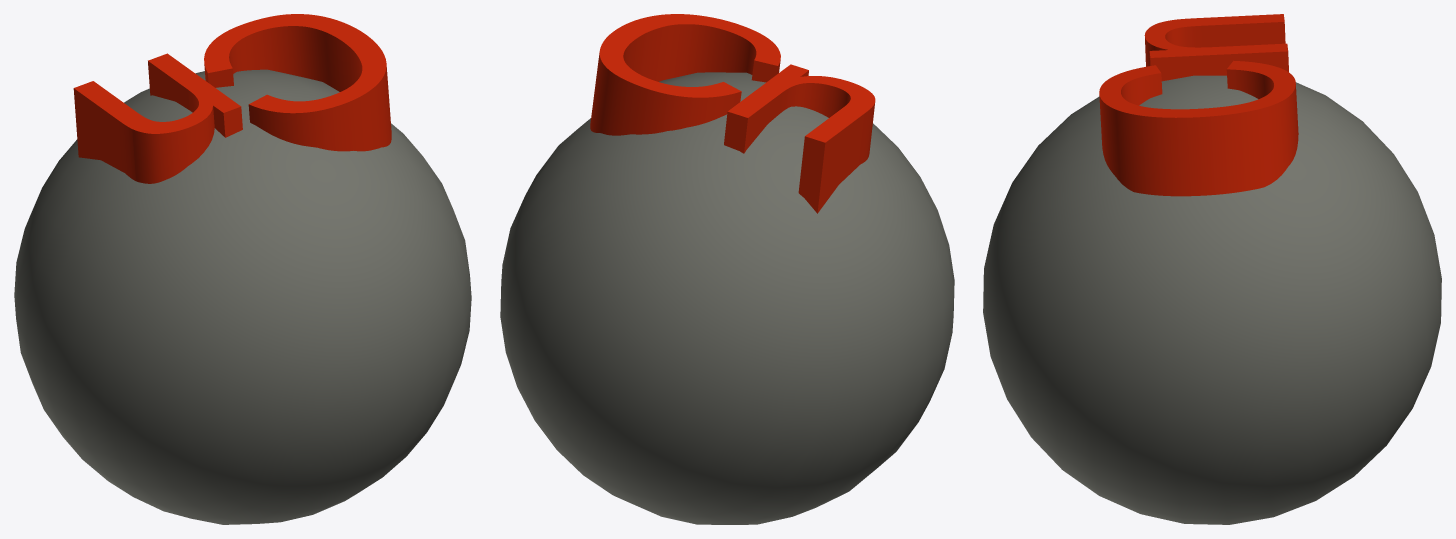
3 renders of one model, left to right at view 1: azimuth 30°, elevation 25°; view 2: azimuth 150°, elevation 25°; view 3: azimuth 270°, elevation 25°, orthographic.
Visible parts, largest first — view 1: Tc001, Object009, Object010; view 2: Tc001, Object009, Object010; view 3: Tc001, Object009, Object010.
Boxes of the visible parts, <box> form: Tc001: <box>14,69,471,524</box>; Object009: <box>204,14,391,151</box>; Object010: <box>73,53,242,183</box>; Tc001: <box>500,72,954,524</box>; Object009: <box>590,14,780,135</box>; Object010: <box>724,64,875,213</box>; Tc001: <box>983,75,1441,524</box>; Object009: <box>1099,60,1298,196</box>; Object010: <box>1144,14,1288,81</box>.
Size of the model in its own units: 38.62 by 41.37 by 38.63.
